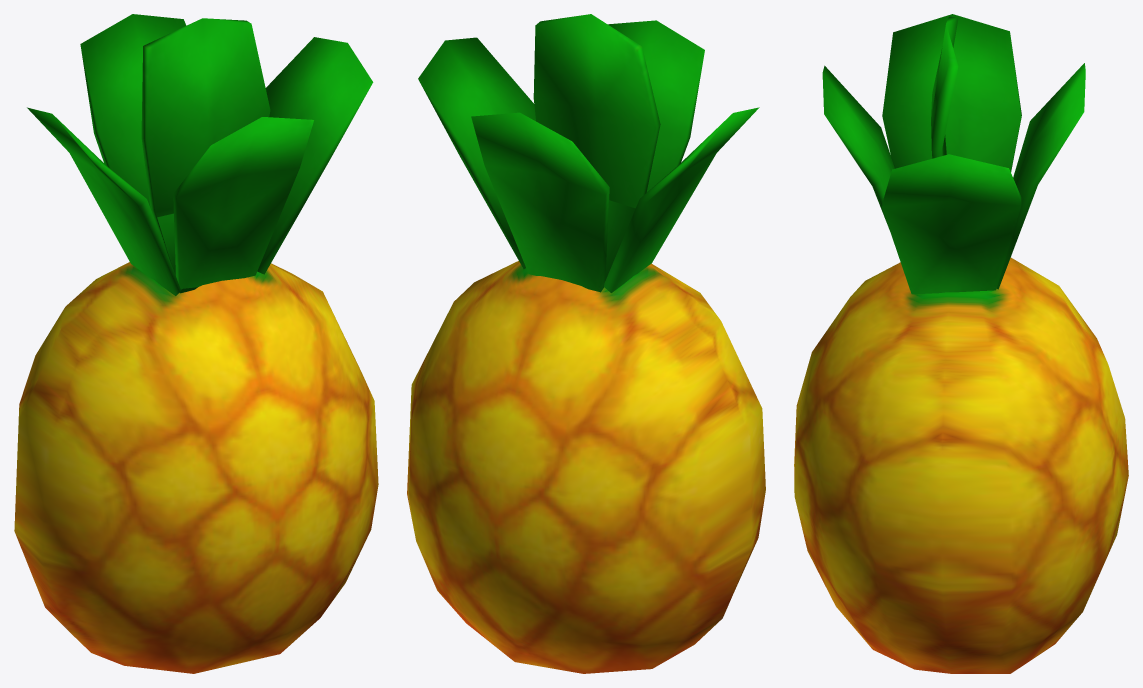
The model's file is yellow_pineapple.glb.
The picture shows the model from 3 angles, left to right: view 1: azimuth 30°, elevation 25°; view 2: azimuth 150°, elevation 25°; view 3: azimuth 270°, elevation 25°; orthographic projection.
Parts seen in each view (by area): view 1: yellow_pineapple; view 2: yellow_pineapple; view 3: yellow_pineapple.
Part boxes in pixels (x1,y1,x2,y2): yellow_pineapple: [14, 14, 378, 673]; yellow_pineapple: [407, 14, 765, 673]; yellow_pineapple: [794, 14, 1128, 673].
Bounding box in the file's own units: 0.5178 × 0.9551 × 0.4747.
1 material, 1 textured.
